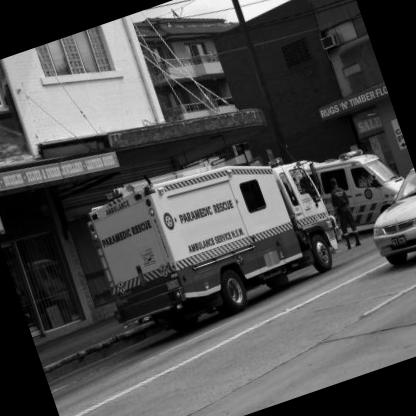ambulance: (62, 115, 355, 354), (292, 119, 412, 243)
car: (352, 167, 416, 291)
